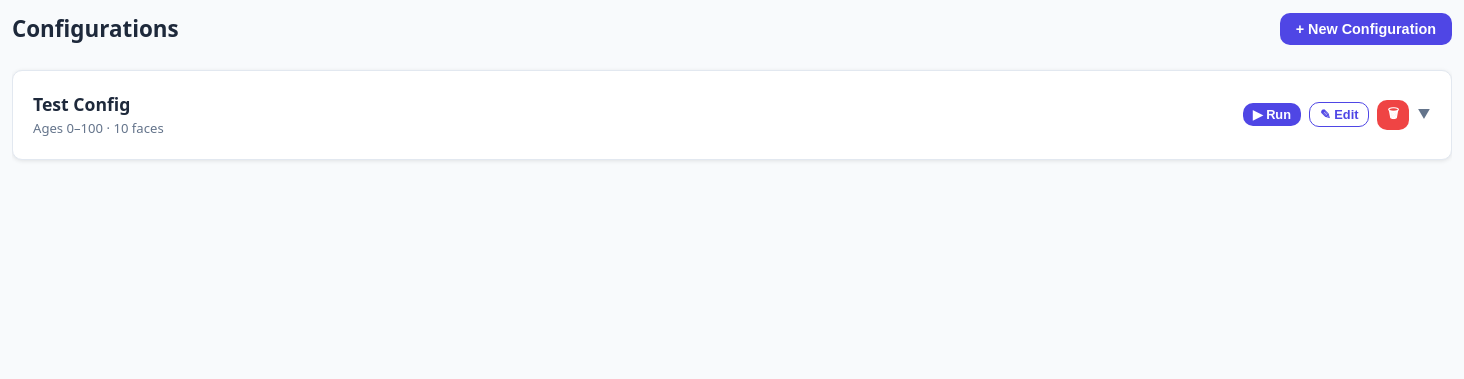
Scenario: ConfigList expand/collapse › shows datasets in detail panel
This screenshot has width=1464, height=379.
Click the text "Test Config".
click(82, 104)  # box [33,92,130,116]
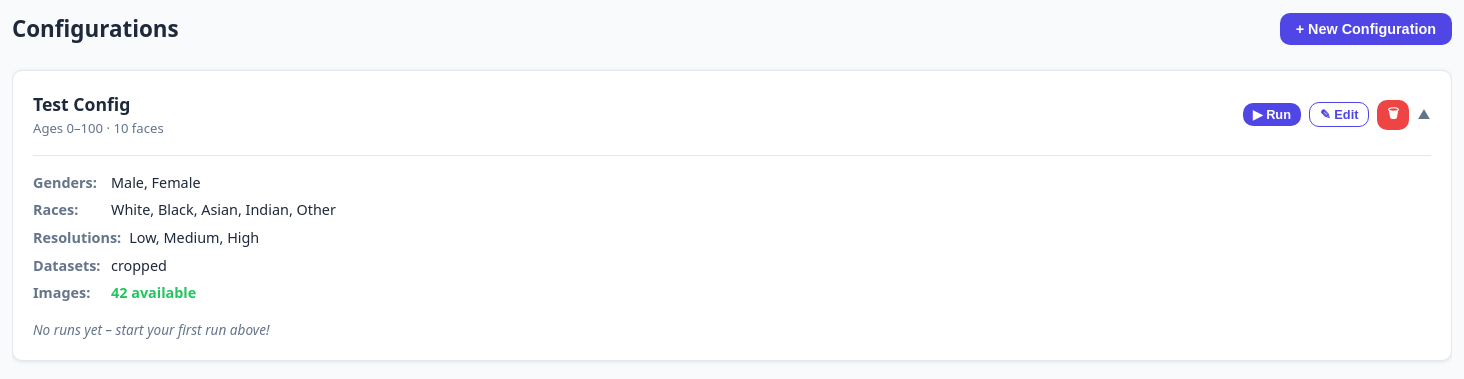
Expected: the text "Datasets:" is shown, [33,254,103,276]
Expected: the text "cropped" is shown, [111,254,167,276]
